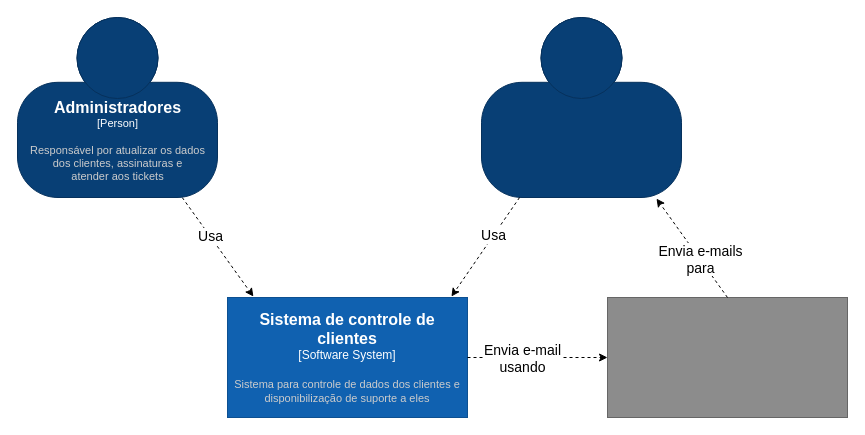
The diagram is 865 pixels wide and 435 high, and some of its shapes have lost their labels. Each missing label, with the centre of its shape:
Clientes [Person] Clientes da empresa: [581,107]
Sistema de e-mail [Software System] Sistema de envio de e-mails externo.: [727,357]
